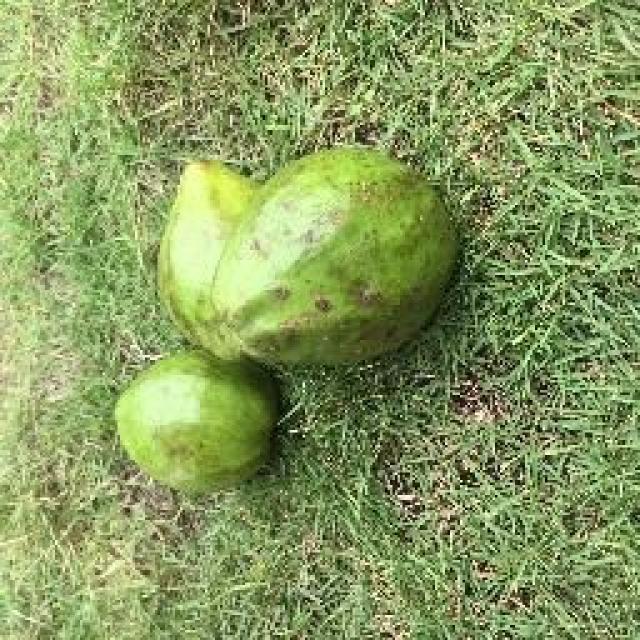Good_Guava: (118, 348, 278, 492)
